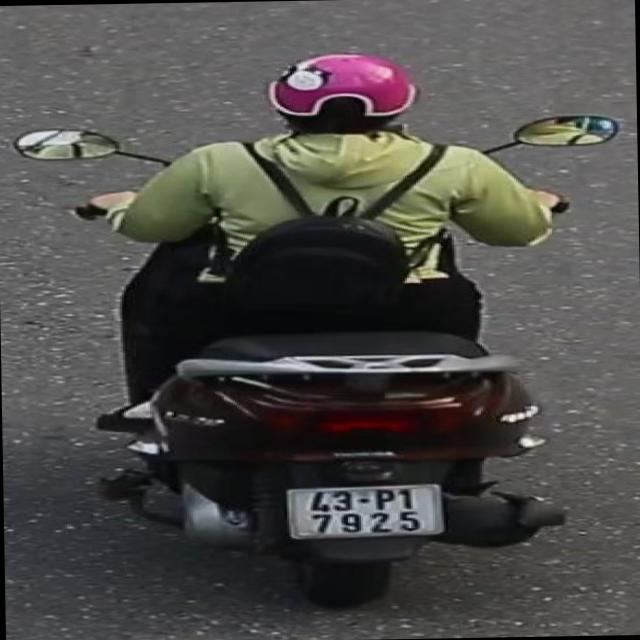LP: (280, 476, 450, 542)
helmet: (264, 45, 427, 144)
